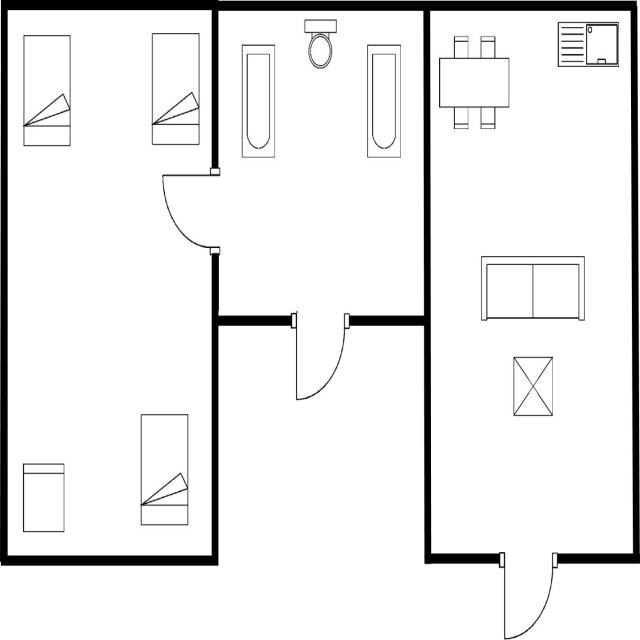bed: (148, 28, 202, 150), (20, 30, 73, 151), (139, 411, 190, 528)
coffee_table: (510, 352, 554, 420)
dining_table: (436, 33, 512, 133)
large_sink: (302, 16, 339, 71)
large_sofa: (478, 252, 587, 324)
sink: (555, 17, 621, 71)
small_sofa: (20, 460, 66, 535)
tub: (363, 41, 403, 160), (239, 40, 277, 162)
